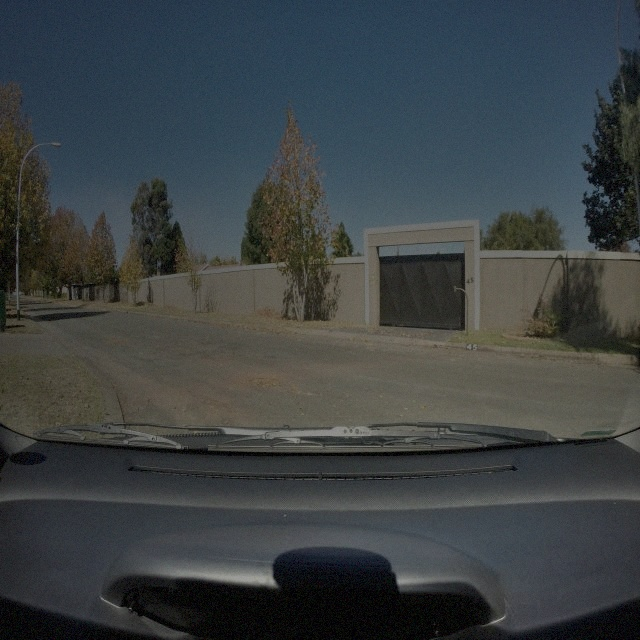pothole: (250, 375, 280, 392), (105, 338, 133, 348), (204, 398, 217, 410)
